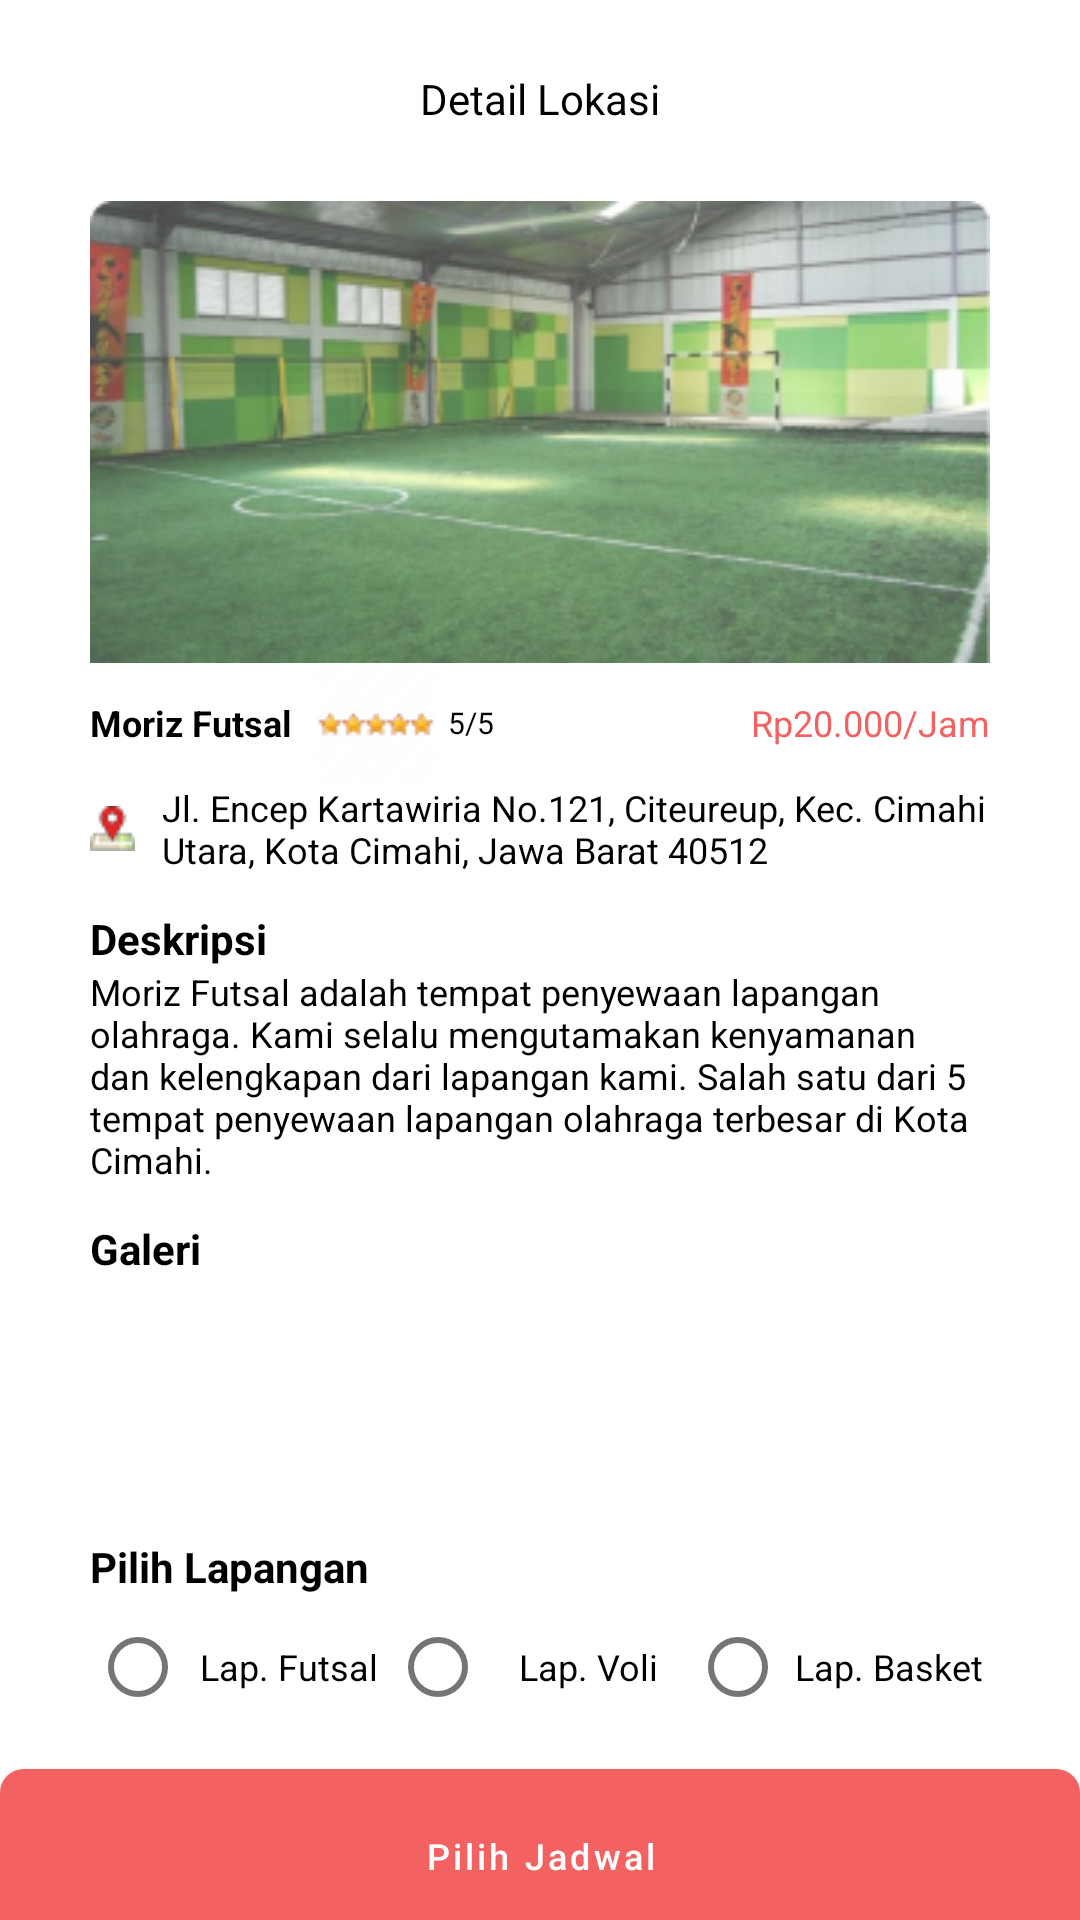

Icon bounding boxes for this 1080x1920 phone screenshot, format region(x1, y1, x2, y2):
stars: region(318, 713, 434, 736)
